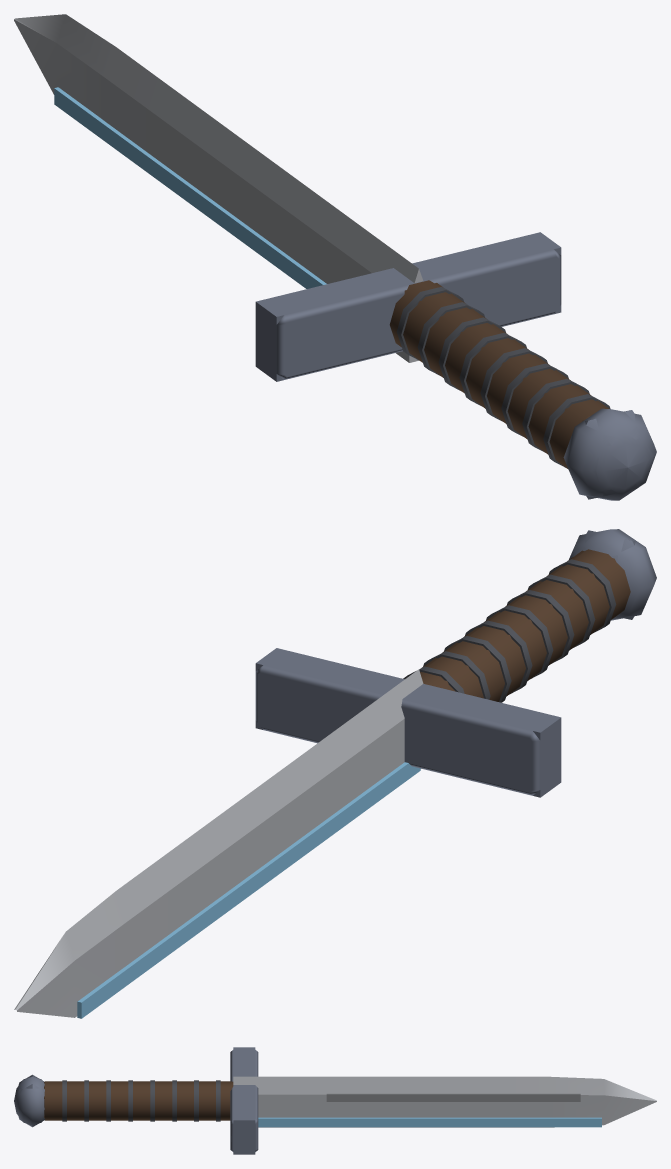
File: knife.glb
The picture shows the model from 3 angles, top to bottom: view 1: azimuth 30°, elevation 25°; view 2: azimuth 150°, elevation 25°; view 3: azimuth 270°, elevation 25°; orthographic projection. The views are drawn at different scales.
Parts seen in each view (by area): view 1: L0, L1; view 2: L0, L1; view 3: L0, L1.
Part boxes in pixels (x1=…): L0: x1=14, y1=14, x2=656, y2=500; L1: x1=255, y1=232, x2=653, y2=499; L0: x1=14, y1=529, x2=656, y2=1018; L1: x1=255, y1=530, x2=635, y2=797; L0: x1=14, y1=1049, x2=656, y2=1151; L1: x1=18, y1=1047, x2=255, y2=1154.
Size of the model in its own units: 0.11 by 0.034 by 0.4098.
